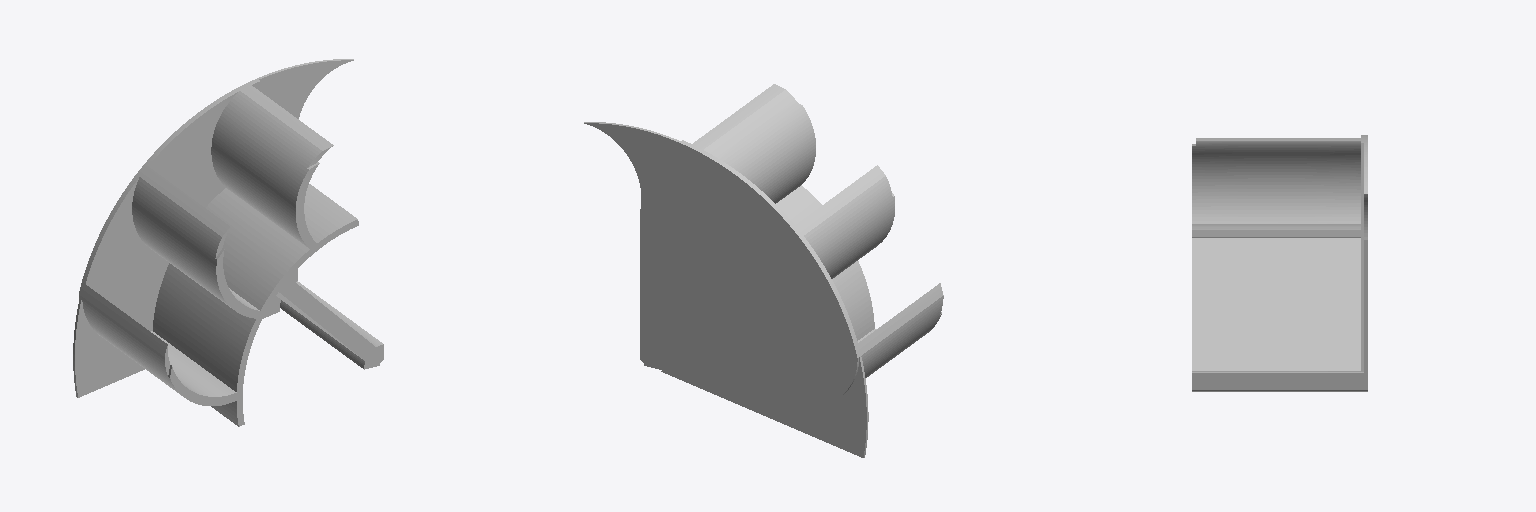
Rendered from VerkisB.obj.
The picture shows the model from 3 angles: view 1: azimuth 30°, elevation 25°; view 2: azimuth 150°, elevation 25°; view 3: azimuth 270°, elevation 25°; orthographic projection.
Visible parts, largest first — view 1: VerkisB; view 2: VerkisB; view 3: VerkisB.
Part boxes in pixels (x1,y1,x2,y2): VerkisB: (73,59,383,426); VerkisB: (584,84,943,457); VerkisB: (1192,135,1367,391).
Bounding box in the file's own units: 18.17 × 17.02 × 9.8.